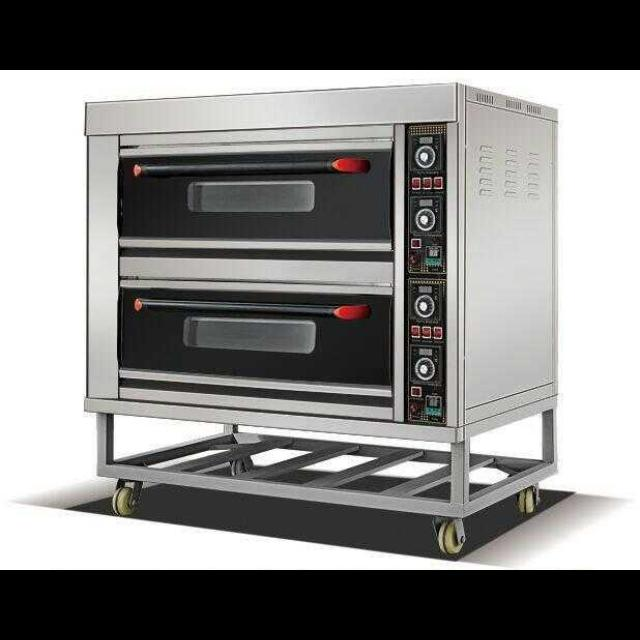Oven: (80, 90, 482, 430)
